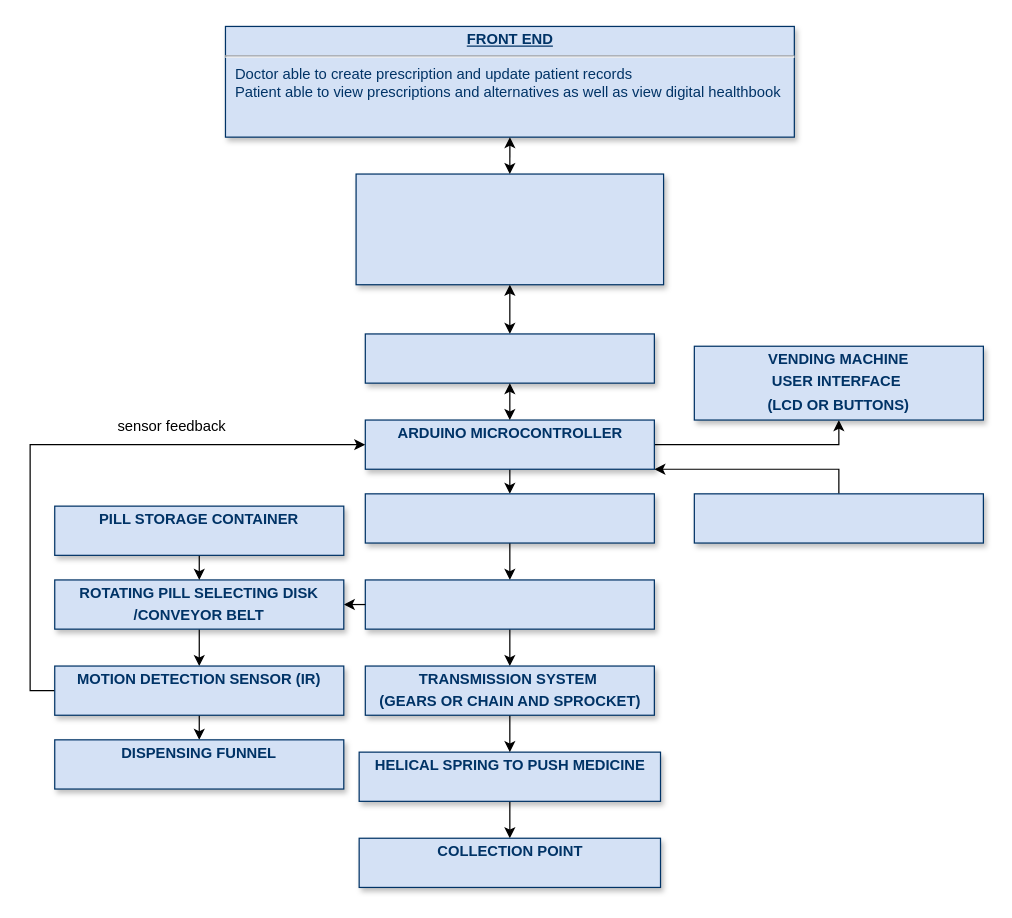
Image size: 1012x918. Some labels were removed from this diagram. Here are the shapes that lost their labels. From the top down, the centre of each, then its label:
(510,230): BACKEND APIs Database Medication Alternative Suggestion AI model SMS sending
(510,360): WIF MODULE
(510,520): MOTOR DRIVER
(839,520): DC POWER SUPPLY
(510,606): DC MOTORS
